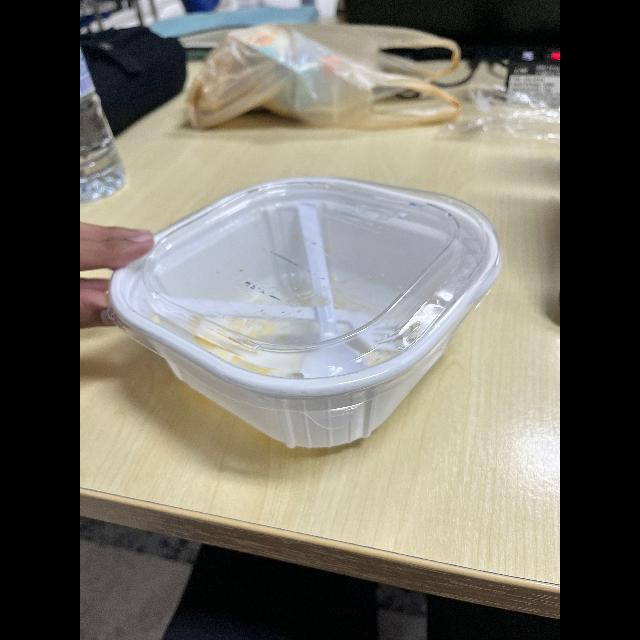plastic_box: (118, 162, 516, 462)
